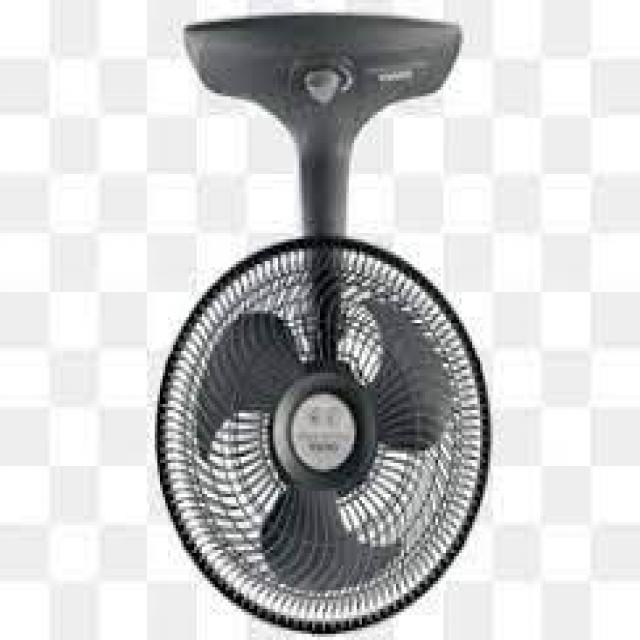fan: (154, 19, 492, 632)
